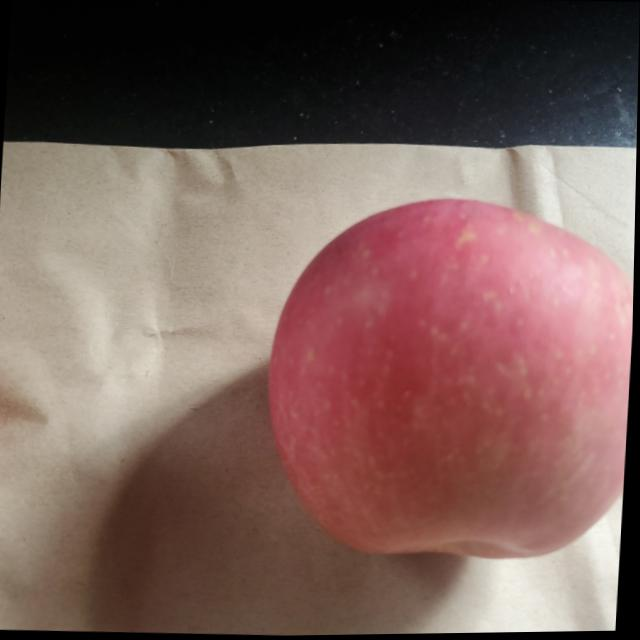apple: (260, 194, 636, 566)
